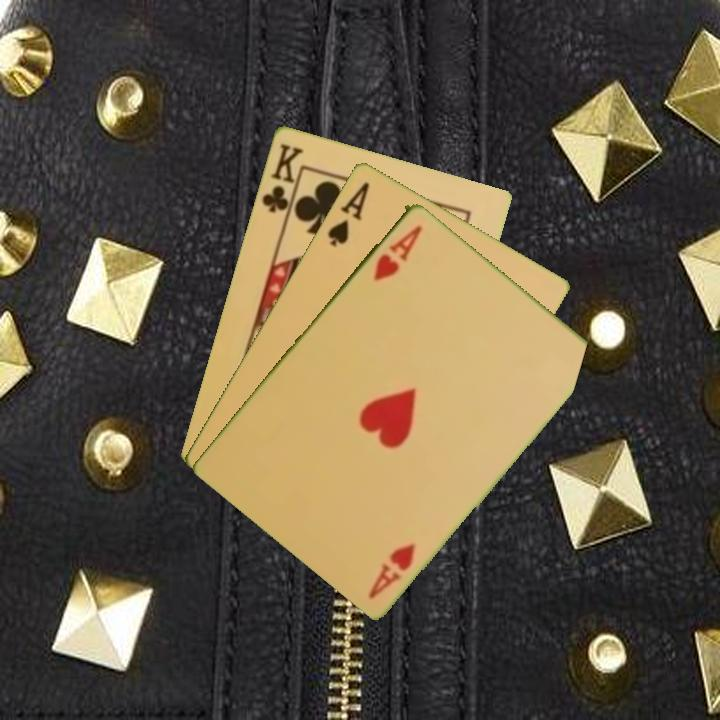Ah: (369, 221, 425, 283), (364, 539, 419, 601)
As: (323, 178, 373, 249)
Kc: (258, 139, 306, 223)
